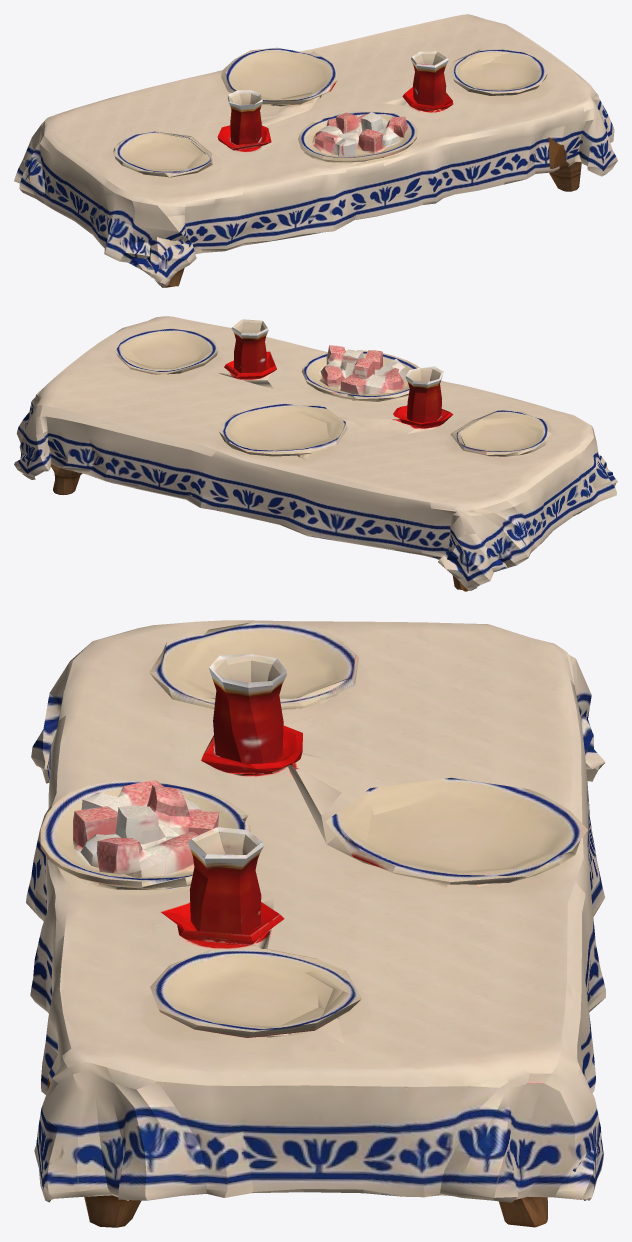
The picture shows the model from 3 angles, top to bottom: view 1: azimuth 30°, elevation 25°; view 2: azimuth 150°, elevation 25°; view 3: azimuth 270°, elevation 25°; orthographic projection. The views are drawn at different scales.
Parts seen in each view (by area): view 1: Mesh0; view 2: Mesh0; view 3: Mesh0.
Part boxes in pixels (bbox=[...]): Mesh0: bbox=[14, 14, 617, 287]; Mesh0: bbox=[14, 316, 617, 591]; Mesh0: bbox=[26, 620, 605, 1227].
Size of the model in its own units: 1.9 by 0.4819 by 0.9344.
Materials: 1 (1 with a texture image).
